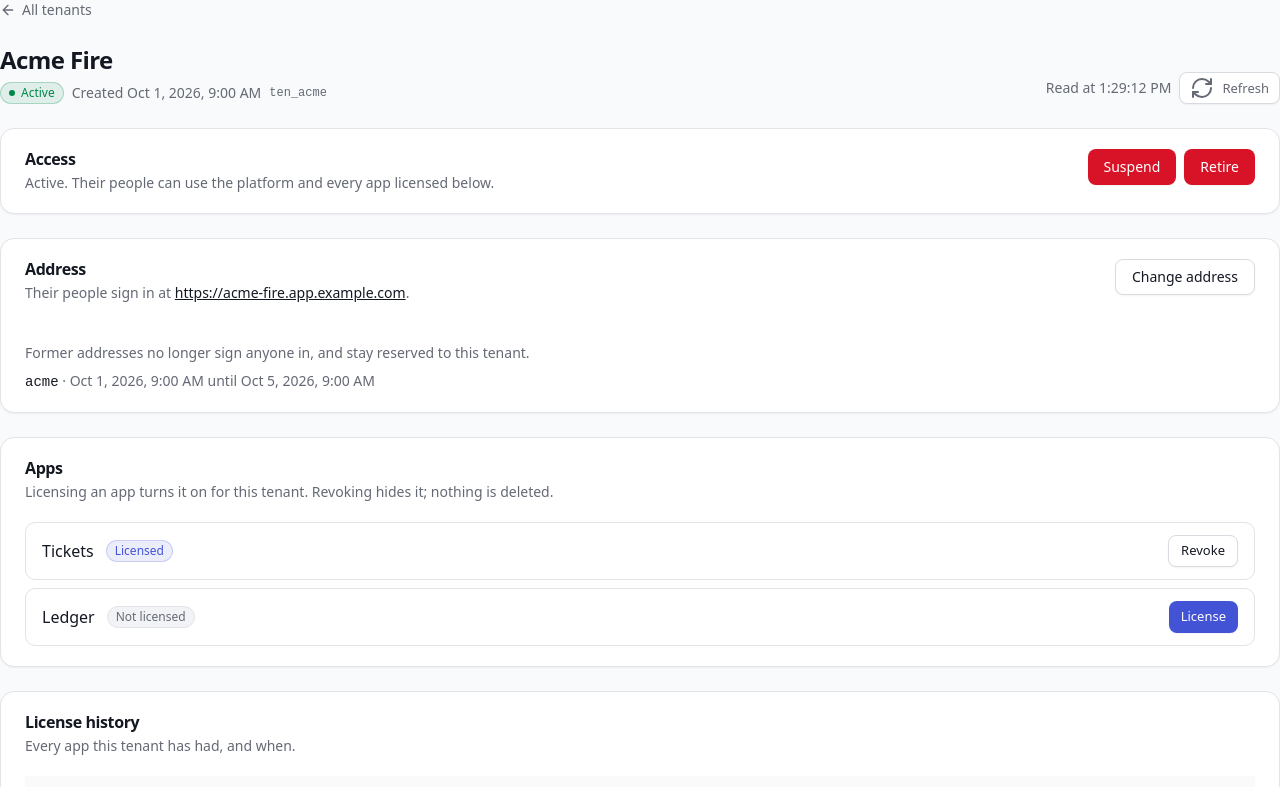
Scenario: changing status › can be cancelled, by its own button or its close button
Click the button "Suspend" at x=1132, y=167, box [1088,149,1176,185]
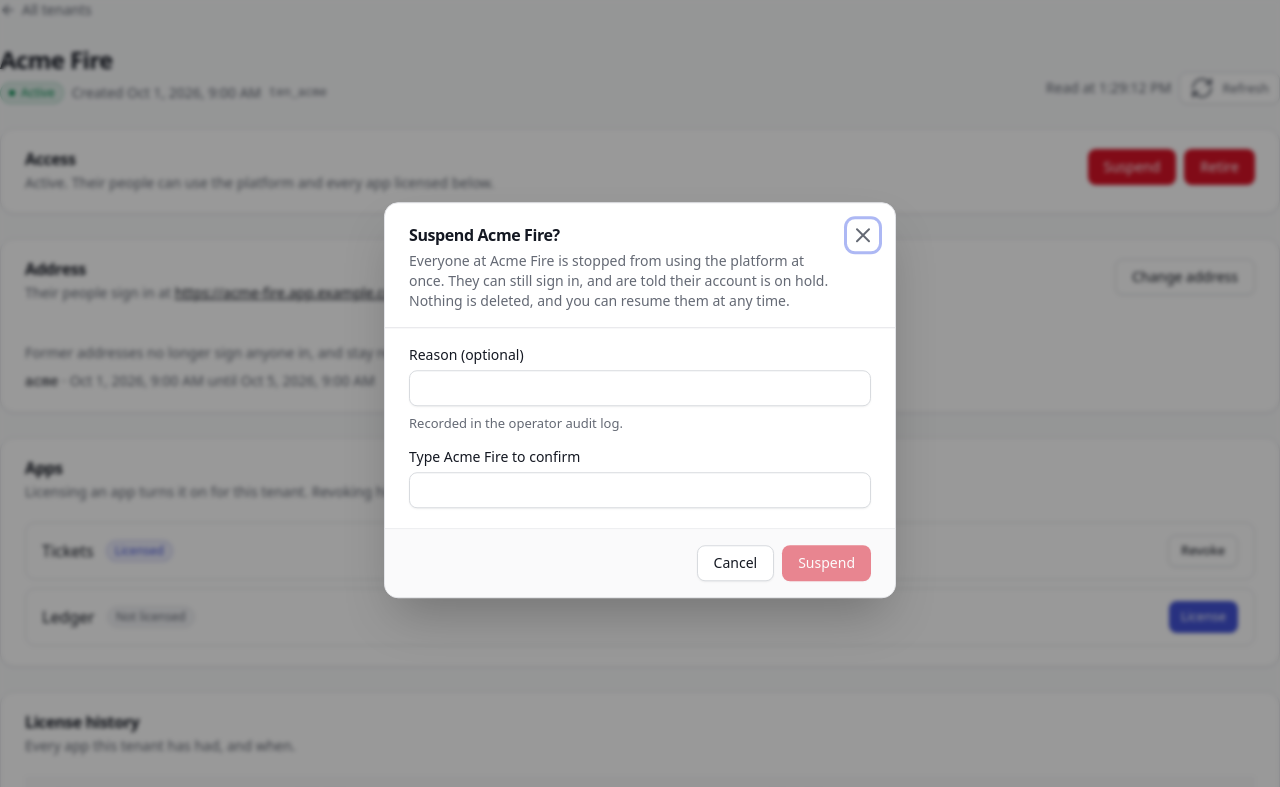
Click the button "Cancel" at x=735, y=563, box [697,545,774,581]
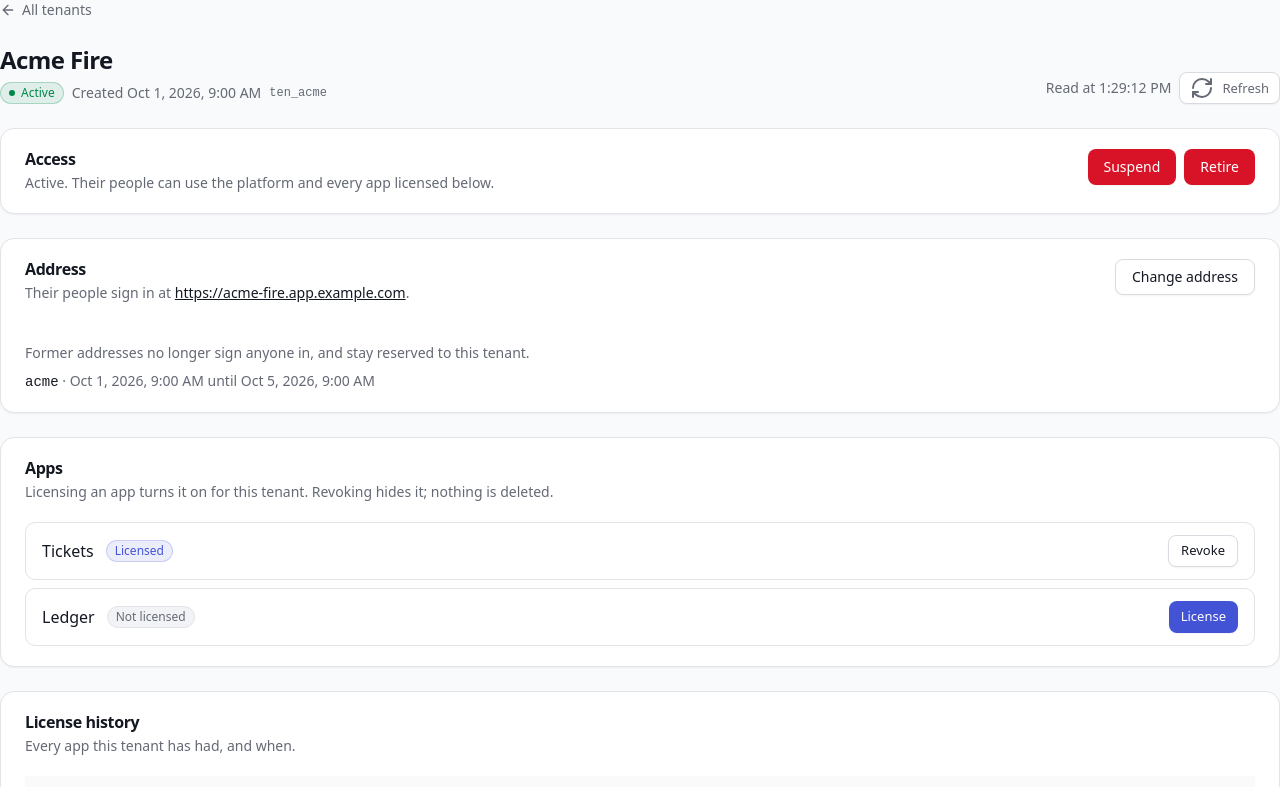
Expected: the dialog is gone
Click the button "Suspend" at x=1132, y=167, box [1088,149,1176,185]
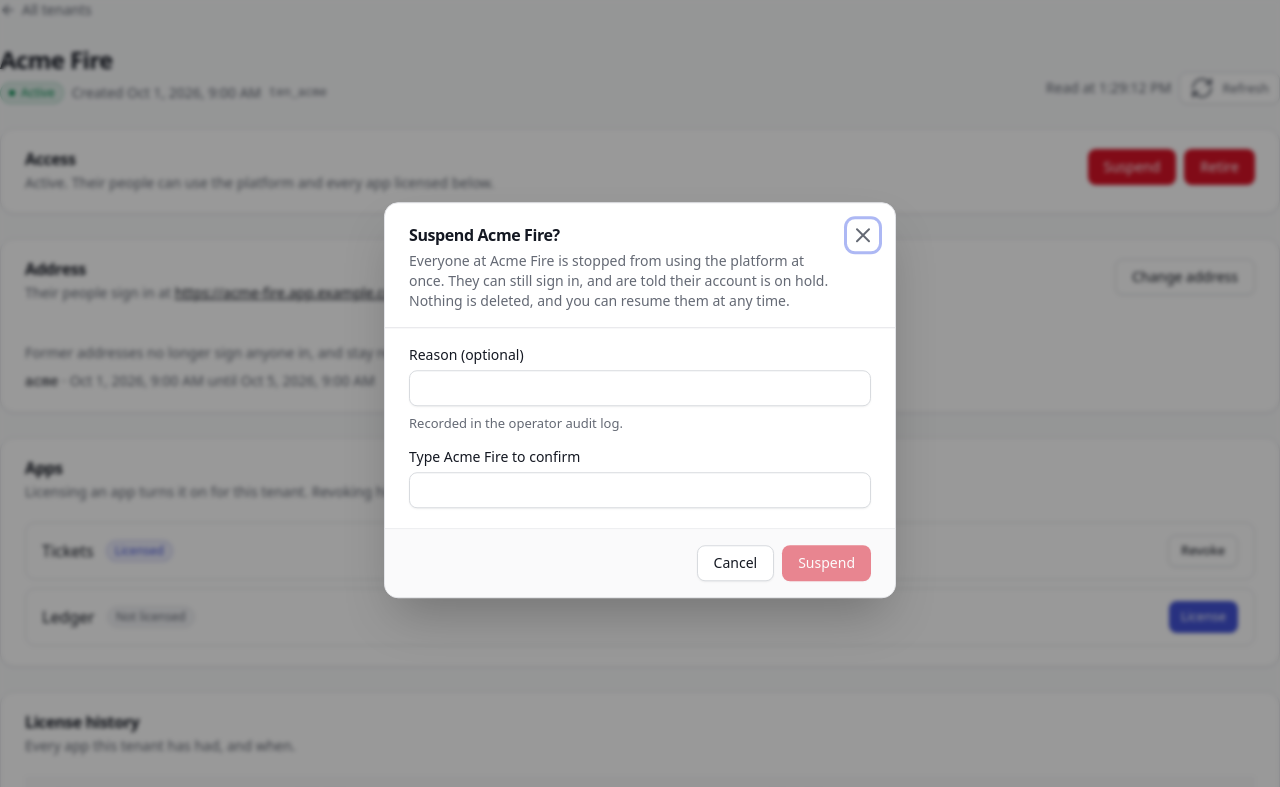
Click the button named "Close" at x=863, y=235, box [847,219,879,251]
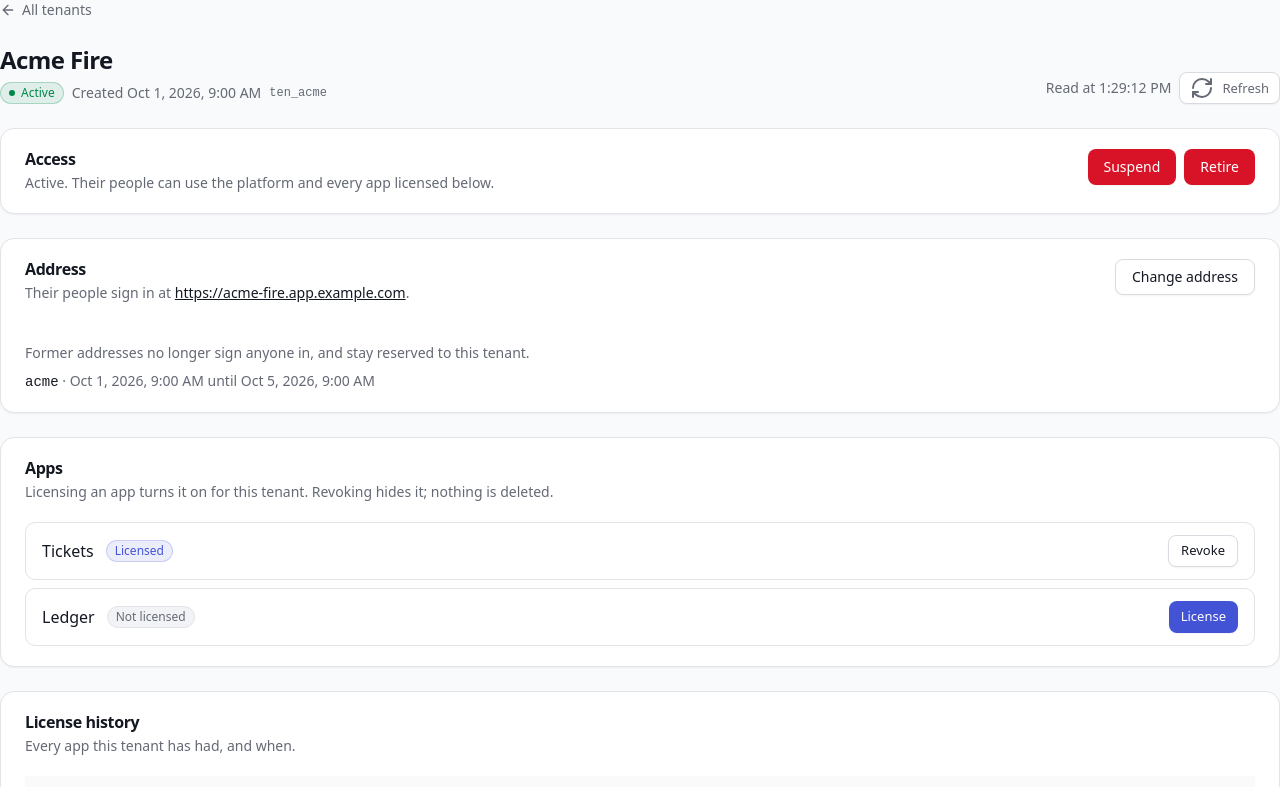
Expected: the dialog is gone
